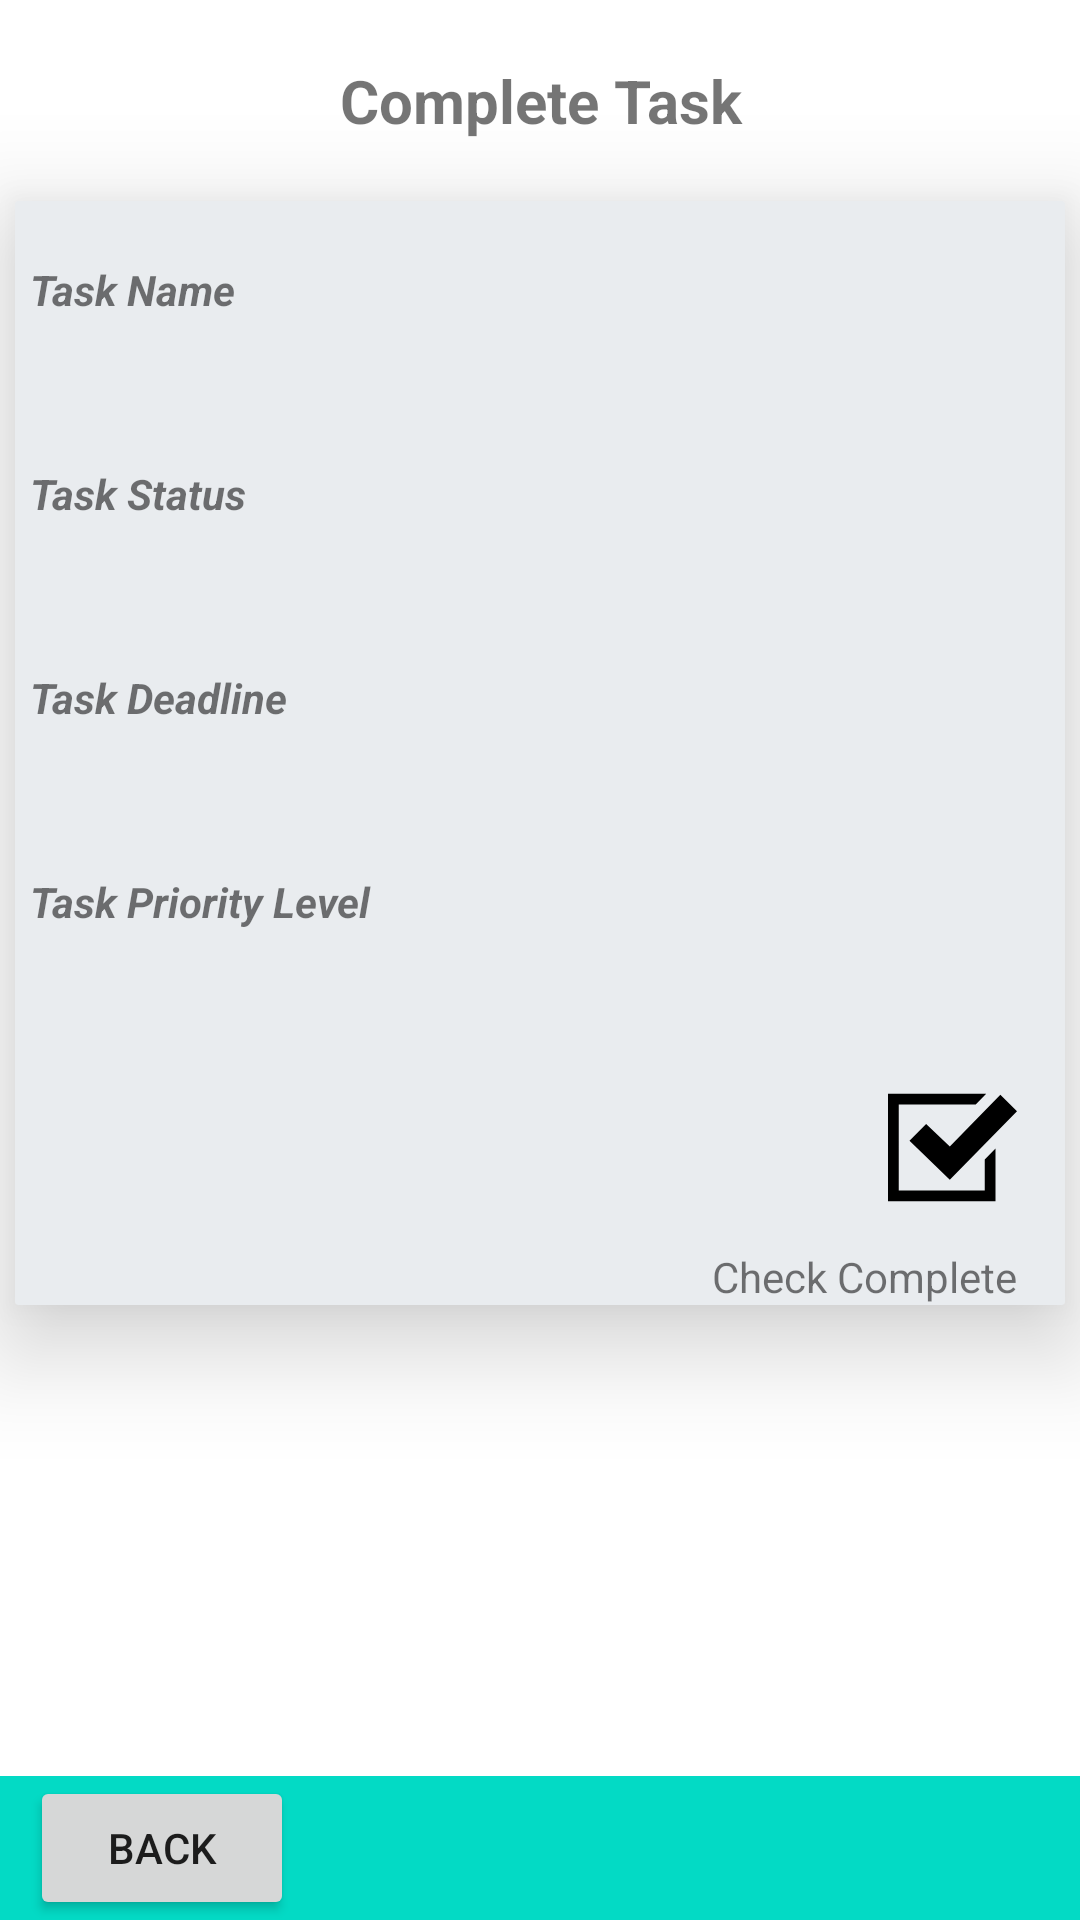

Screen size 1080px x 1920px. Icon name, then its box in pixels as (x1, y1, x2, y2):
mark completed: (888, 1093, 1017, 1202)
